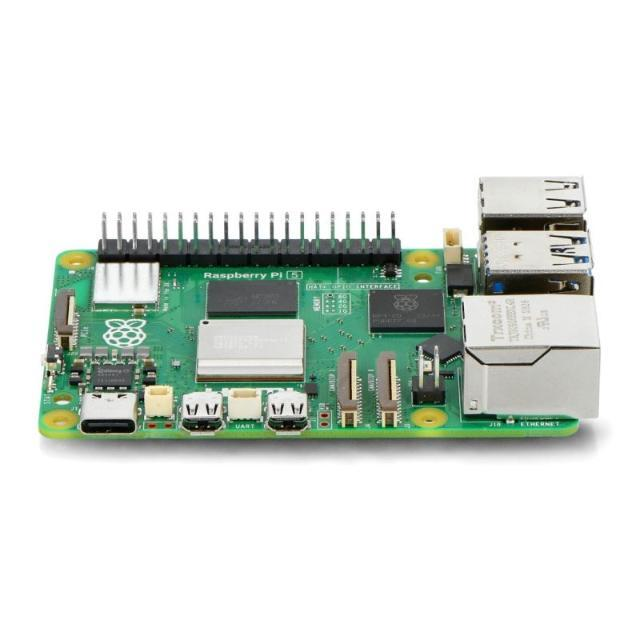Raspberry-Pi-5: (42, 178, 600, 440)
